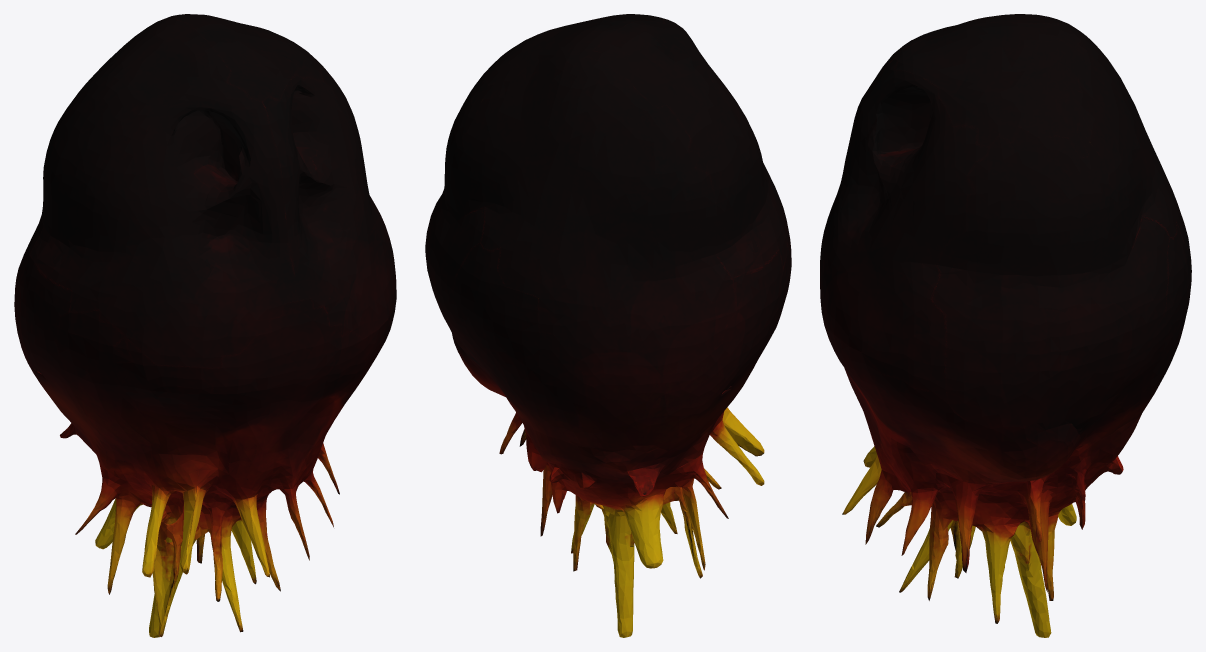
File: ghost.glb
3 views of the same model, side by side, from view 1: azimuth 30°, elevation 25°; view 2: azimuth 150°, elevation 25°; view 3: azimuth 270°, elevation 25° (orthographic). The views are drawn at different scales.
Parts seen in each view (by area): view 1: world; view 2: world; view 3: world.
Part boxes in pixels (x1=…): world: x1=14, y1=14, x2=396, y2=637; world: x1=425, y1=14, x2=791, y2=637; world: x1=820, y1=14, x2=1191, y2=637.
Bounding box in the file's own units: 0.5743 × 0.9995 × 0.5371.
1 material, 1 textured.
